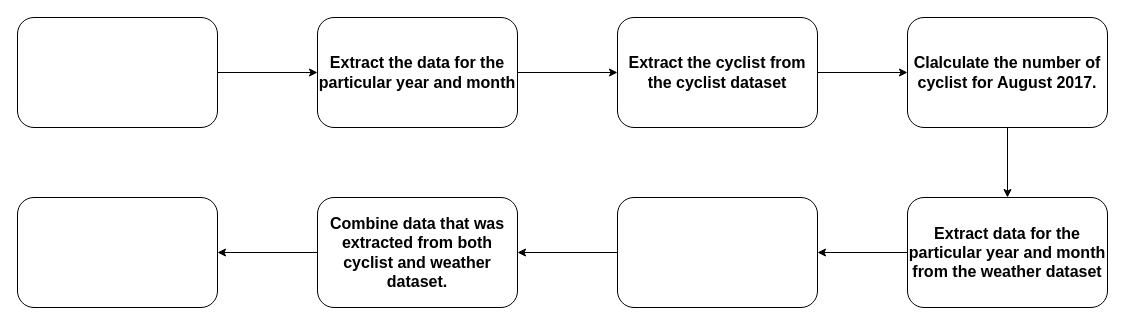
The diagram is 1125 pixels wide and 325 high, and some of its shapes have lost their labels. The shapes that lost their labels are listed below. From the top down, each one's box as (x1, y1, x2, y2) in pixels, then its label:
(16, 16, 218, 128): Load the dataset for both cyclist and weather
(16, 196, 218, 308): Display all data
(616, 196, 818, 308): Extract the data for high temp from the weather dataset
